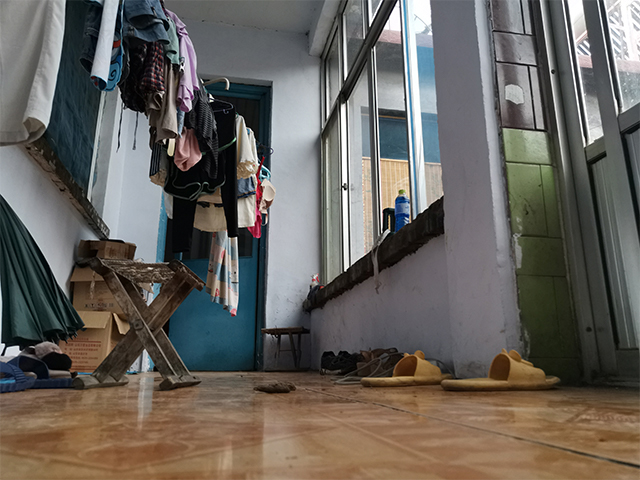feces: (250, 378, 299, 395)
slippers: (442, 347, 560, 387), (359, 350, 454, 386), (1, 353, 77, 393)
stool: (69, 255, 207, 390), (259, 323, 312, 374)
